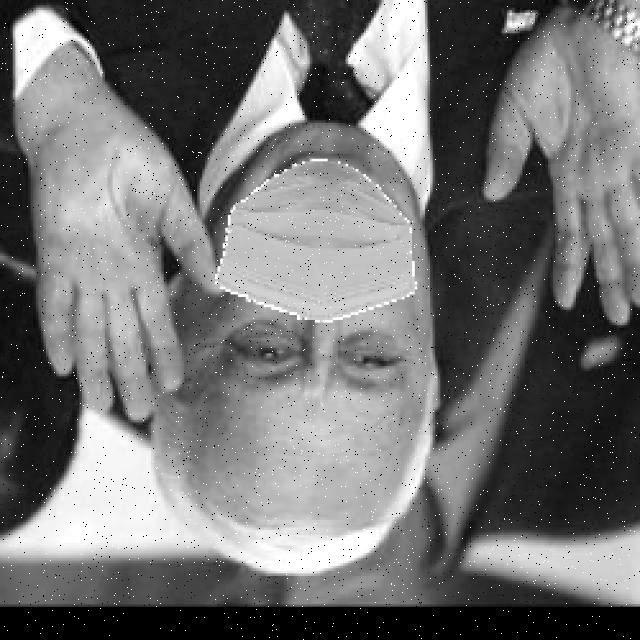mask: (226, 140, 418, 316)
no_apron: (50, 98, 220, 424), (489, 0, 640, 319)
no_gloves: (176, 446, 404, 618)
